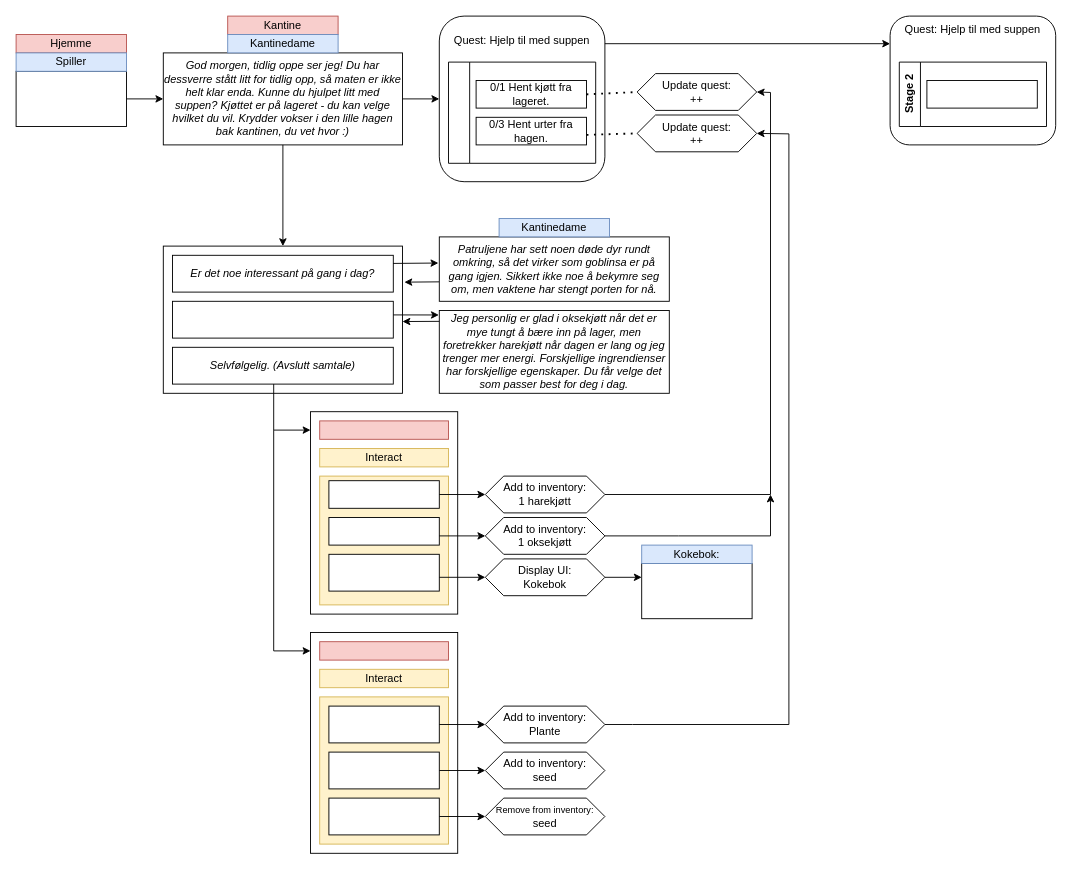
The diagram is 1072 pixels wide and 869 high, and some of its shapes have lost their labels. The shapes that lost their labels are listed below. From the top down, each one's box as (x1, y1, x2, y2) in pixels, then its label:
(15, 70, 126, 126): Våkner opp. Quest: Gå til kantinen for å få mat
(448, 61, 596, 163): Stage 1
(926, 80, 1037, 108): Fullfør suppen.
(172, 300, 393, 338): Jeg er usikker på hva som hadde smakt best i suppen...
(319, 420, 448, 439): Lager
(328, 480, 439, 508): Plukke opp harekjøtt.
(328, 517, 439, 545): Plukke opp oksekjøtt.
(328, 553, 439, 591): Les kokebok.
(641, 563, 752, 619): *Beskriv hvordan mat og ingredienser funker i spillet*
(319, 641, 448, 660): Hage
(328, 705, 439, 743): Plukke opp plante.
(328, 751, 439, 789): Plukke opp seed.
(328, 797, 439, 835): Plante seed.
